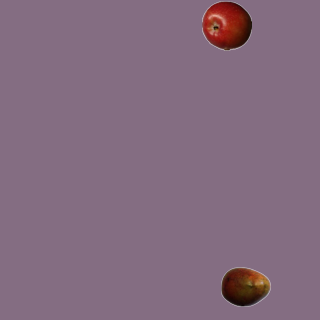Apple Braeburn: (201, 0, 251, 50)
Mango Red: (220, 261, 270, 311)
